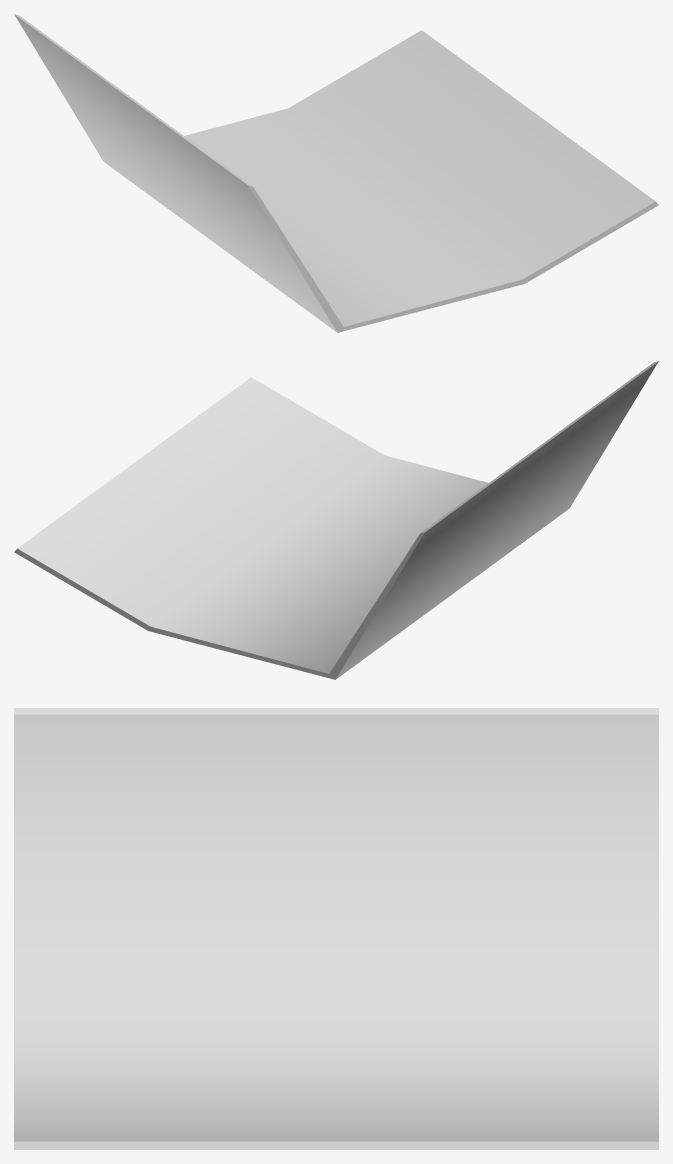
The model's file is letter.fbx.
3 renders of one model, top to bottom at view 1: azimuth 30°, elevation 25°; view 2: azimuth 150°, elevation 25°; view 3: azimuth 270°, elevation 25°, orthographic. The views are drawn at different scales.
Parts seen in each view (by area): view 1: loveLetter1; view 2: loveLetter1; view 3: loveLetter1.
Part boxes in pixels (box(x1,y1,x2,y2)): loveLetter1: box(14, 14, 658, 332); loveLetter1: box(14, 361, 658, 679); loveLetter1: box(14, 708, 658, 1149).
Size of the model in its own units: 35.95 by 14.16 by 35.47.
1 material, 1 textured.
